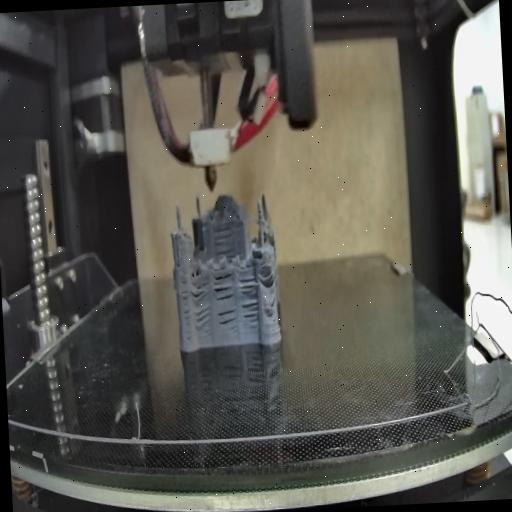cracks: (240, 276, 260, 334), (181, 278, 193, 344), (213, 273, 235, 303), (214, 224, 234, 254), (217, 306, 237, 334), (194, 306, 212, 333), (191, 278, 209, 303), (264, 298, 282, 319), (262, 270, 276, 288)
